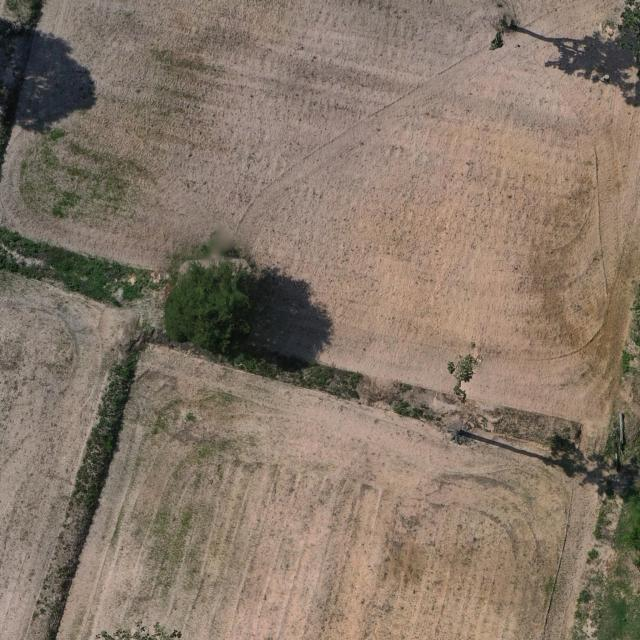Tree: (163, 259, 263, 360)
